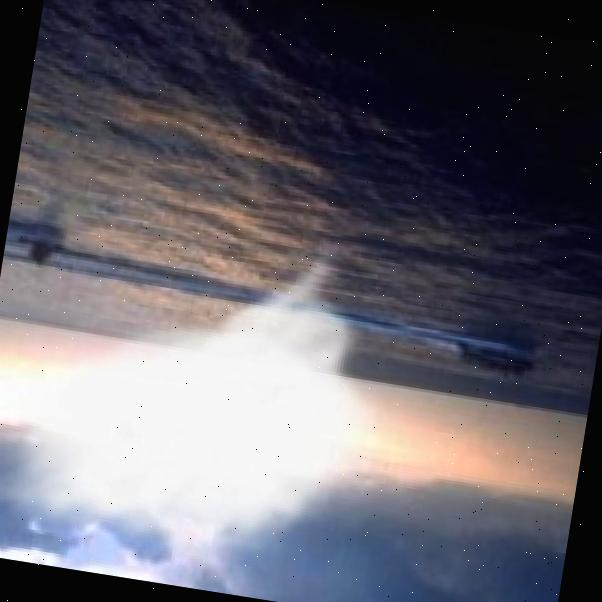smoke: (0, 187, 422, 597)
